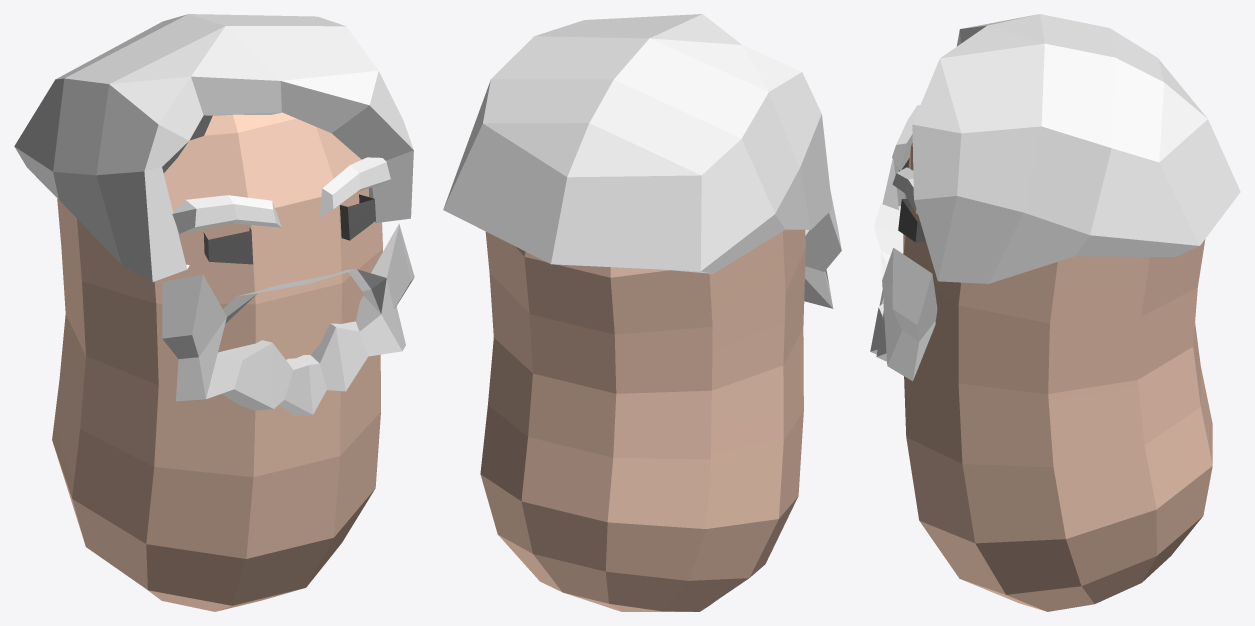
Rendered from SenorModel.fbx.
3 renders of one model, left to right at view 1: azimuth 30°, elevation 25°; view 2: azimuth 150°, elevation 25°; view 3: azimuth 270°, elevation 25°, orthographic. The views are drawn at different scales.
Visible parts, largest first — view 1: SM_Bean_Cowboy_01; view 2: SM_Bean_Cowboy_01; view 3: SM_Bean_Cowboy_01.
Part boxes in pixels (bbox=[...]): SM_Bean_Cowboy_01: bbox=[14, 14, 414, 611]; SM_Bean_Cowboy_01: bbox=[443, 14, 841, 611]; SM_Bean_Cowboy_01: bbox=[870, 14, 1240, 611].
Bounding box in the file's own units: 96.21 × 172 × 106.
